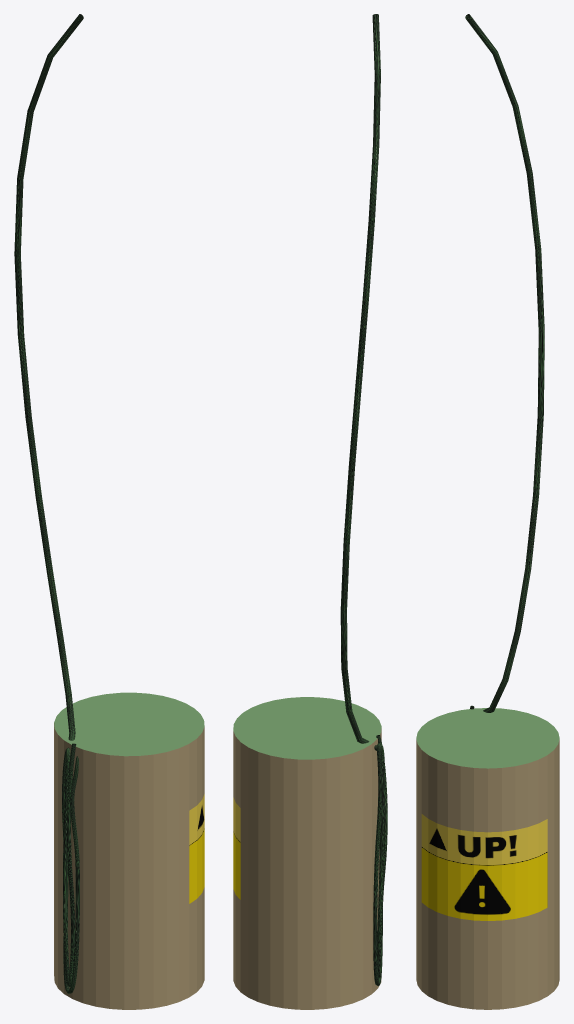
The model's file is Canister_With_Fuse.fbx.
3 views of the same model, side by side, from view 1: azimuth 30°, elevation 25°; view 2: azimuth 150°, elevation 25°; view 3: azimuth 270°, elevation 25° (orthographic). The views are drawn at different scales.
Visible parts, largest first — view 1: Cylinder, BezierCurve.001, BezierCurve; view 2: Cylinder, BezierCurve.001, BezierCurve; view 3: Cylinder, BezierCurve.001.
Boxes of the visible parts, <box> form: Cylinder: <box>54,692,204,1009</box>; BezierCurve.001: <box>14,14,83,749</box>; BezierCurve: <box>62,743,79,993</box>; Cylinder: <box>233,697,381,1009</box>; BezierCurve.001: <box>340,14,380,750</box>; BezierCurve: <box>373,735,387,985</box>; Cylinder: <box>416,708,559,1009</box>; BezierCurve.001: <box>465,14,544,712</box>.
Bounding box in the file's own units: 16.64 × 101 × 14.
